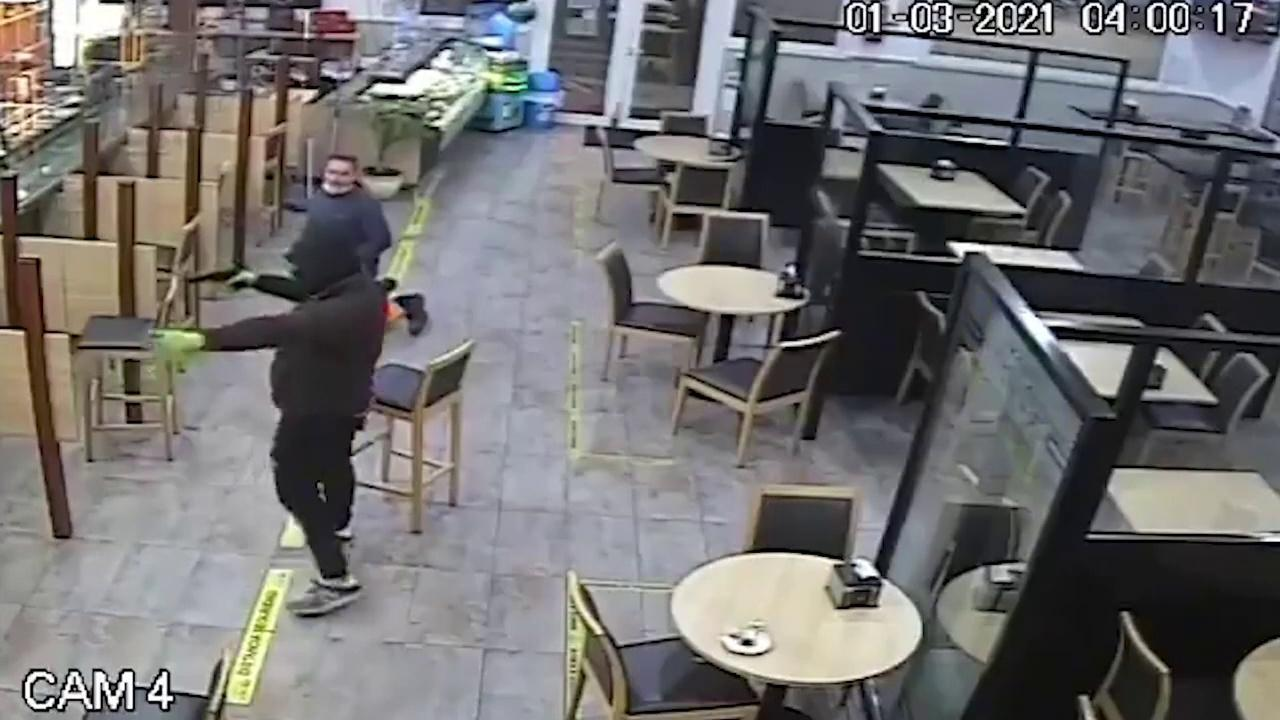Guns perspective: (169, 248, 269, 303)
